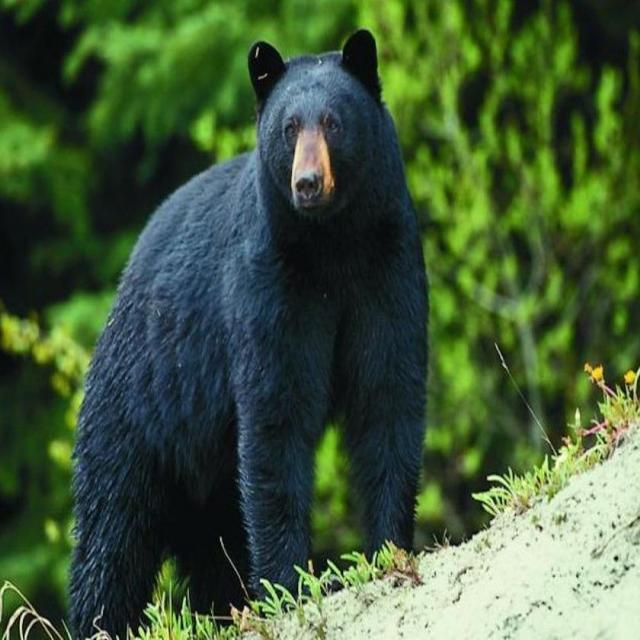Bear: (66, 30, 430, 640)
